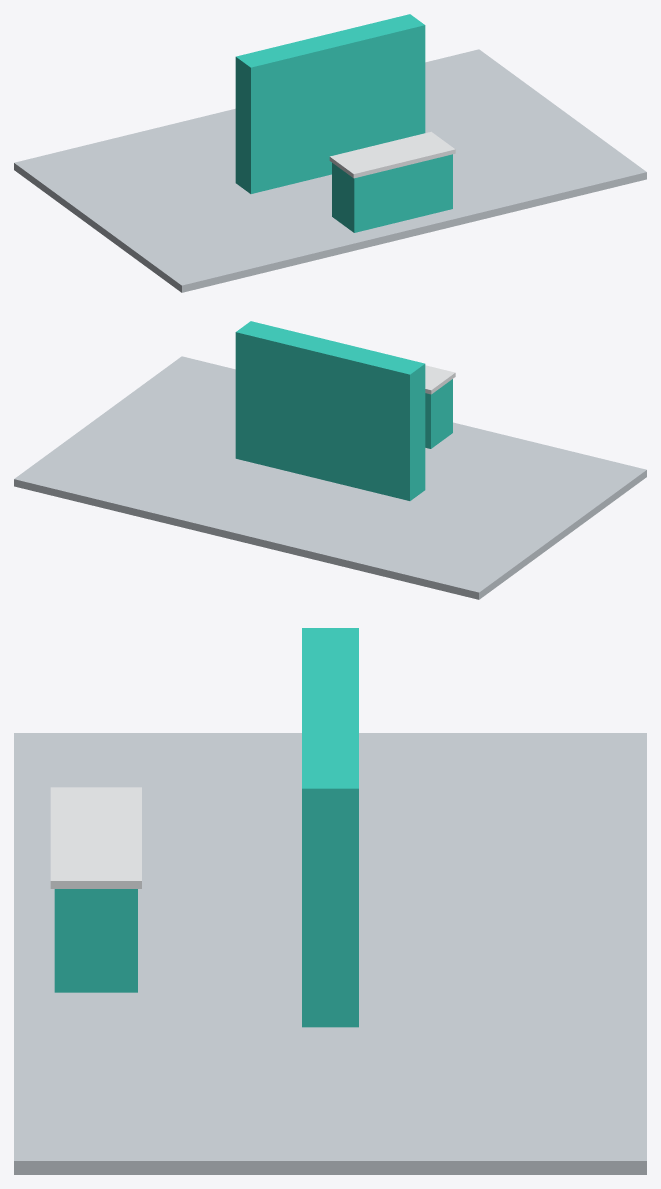
3 renders of one model, top to bottom at view 1: azimuth 30°, elevation 25°; view 2: azimuth 150°, elevation 25°; view 3: azimuth 270°, elevation 25°, orthographic. The views are drawn at different scales.
Visible parts, largest first — view 1: Exhibition Booth Concept; view 2: Exhibition Booth Concept; view 3: Exhibition Booth Concept.
Boxes of the visible parts, left/top/right/bottom form: Exhibition Booth Concept: left=14, top=14, right=646, bottom=292; Exhibition Booth Concept: left=14, top=321, right=646, bottom=599; Exhibition Booth Concept: left=14, top=628, right=646, bottom=1174.
Size of the model in its own units: 8 by 2.2 by 5.
